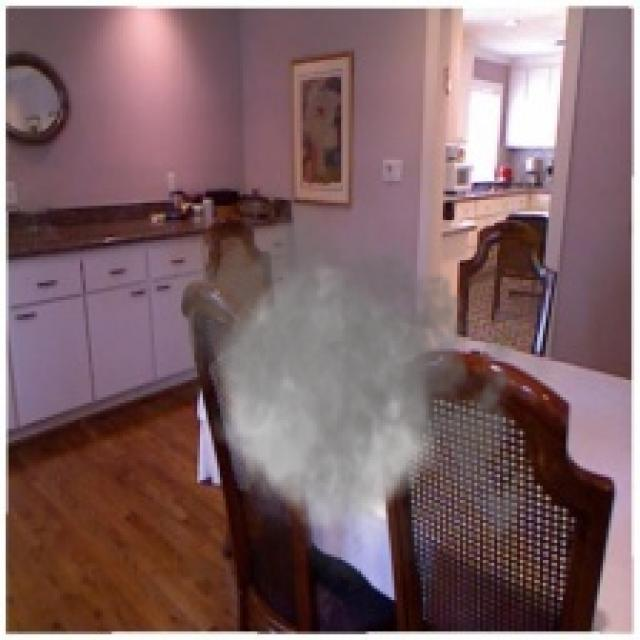smoke: (160, 185, 537, 606)
